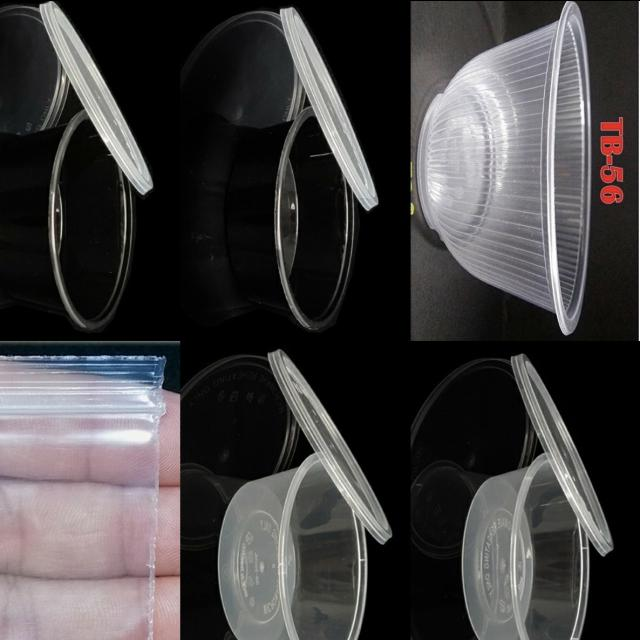plastik: (417, 0, 591, 333), (0, 355, 164, 640), (0, 111, 133, 331), (227, 107, 356, 331), (219, 454, 367, 640), (268, 348, 391, 543), (462, 454, 590, 640), (39, 0, 154, 193), (511, 352, 613, 555), (281, 7, 378, 209)
